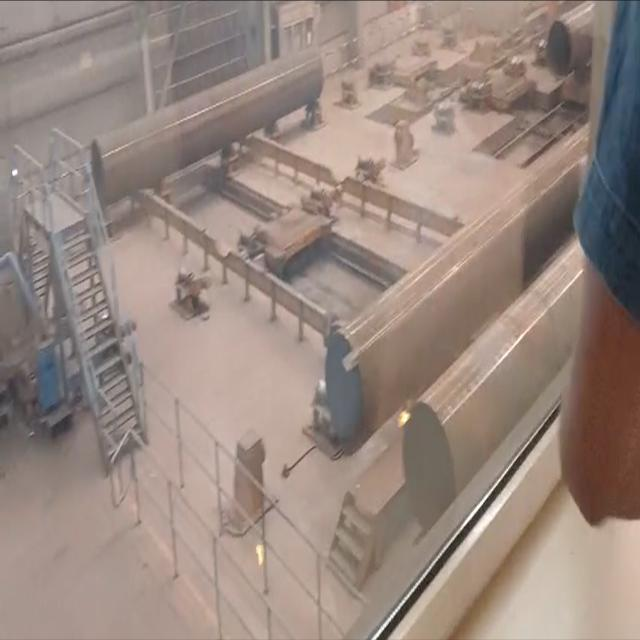warningzone: (144, 132, 471, 330)
